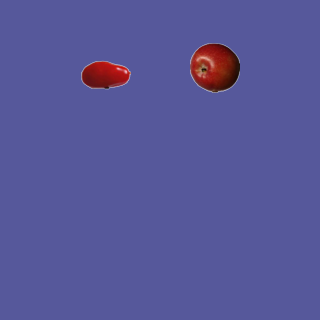Apple Braeburn: (189, 42, 239, 92)
Tomato 2: (80, 49, 130, 99)
